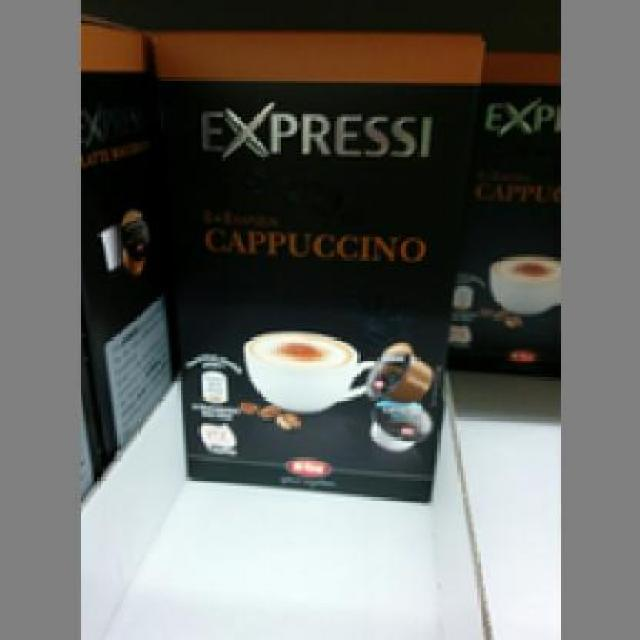Coffee: (146, 17, 480, 503)
